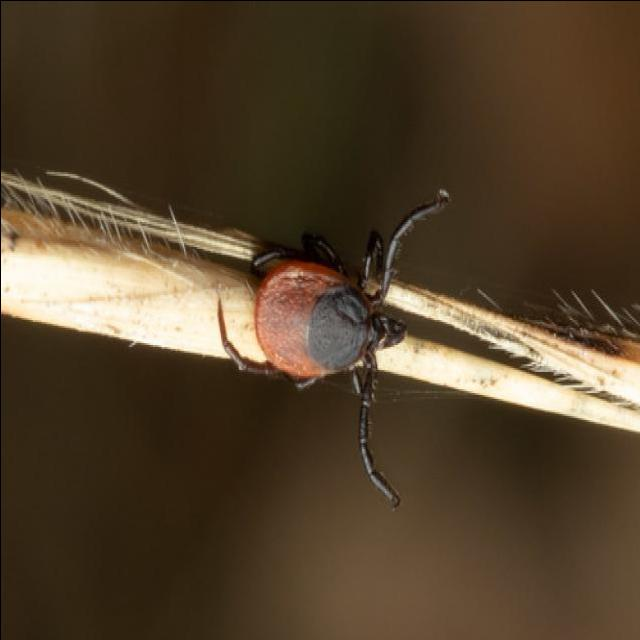Ixodes Ricinus-F: (215, 186, 447, 507)
